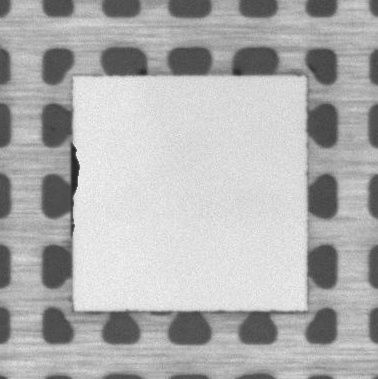DIE_BROKEN: (68, 139, 82, 236)
